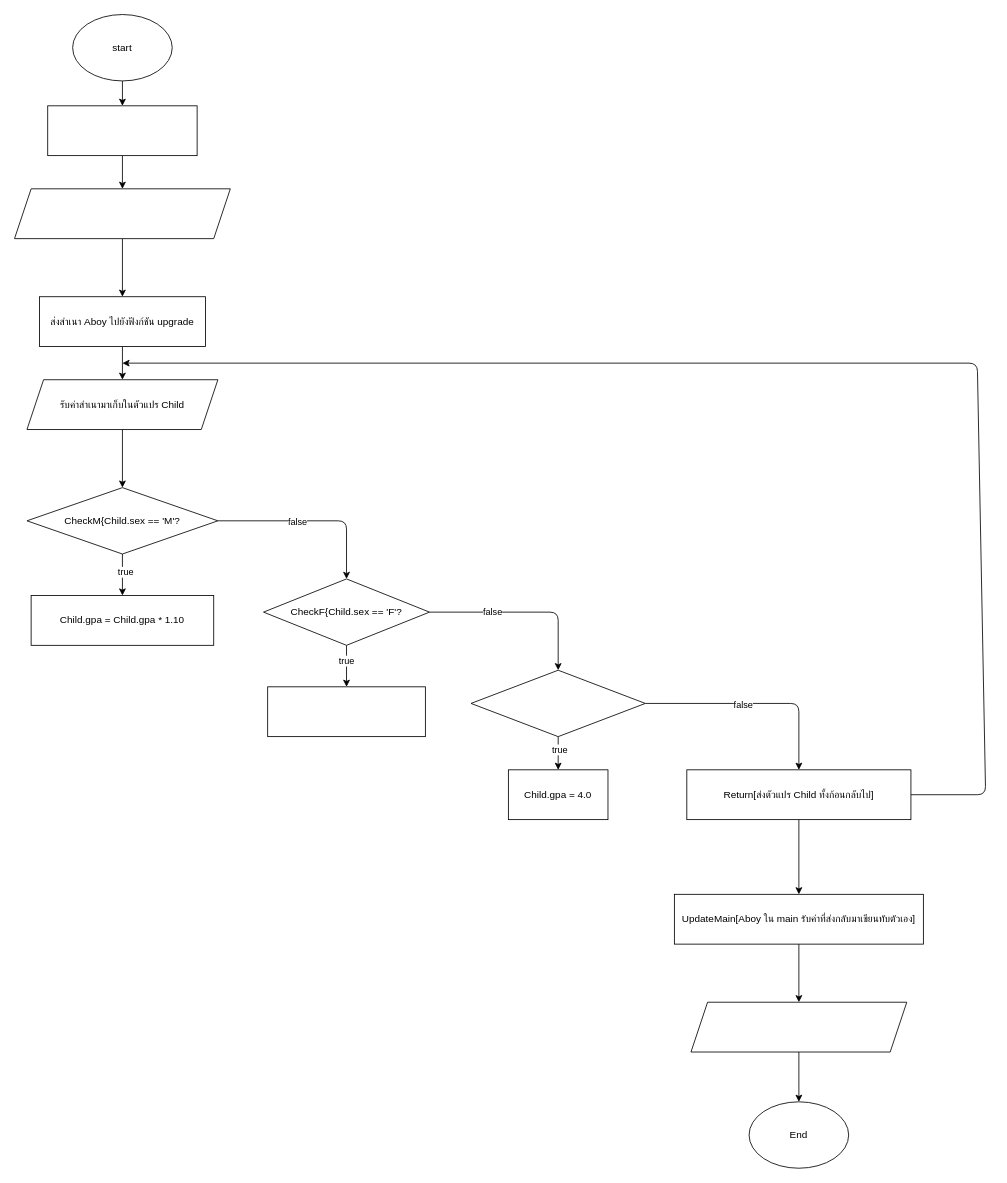
This 1007x1183 diagram has some shape labels left out. The shapes that lost their labels are listed below. From the top down, each one's box as (x1, y1, x2, y2) in pixels, then its label:
(47, 105, 197, 156): ประกาศ struct student Aboy
(14, 188, 230, 239): กำหนดค่า Aboy.sex = 'M', Aboy.gpa = 3.00
(267, 686, 425, 737): Child.gpa = Child.gpa * 1.20
(470, 669, 645, 737): Child.gpa > 4.0?
(690, 1001, 907, 1052): Print[แสดงผลค่า Aboy.gpa ออกทางหน้าจอ]
